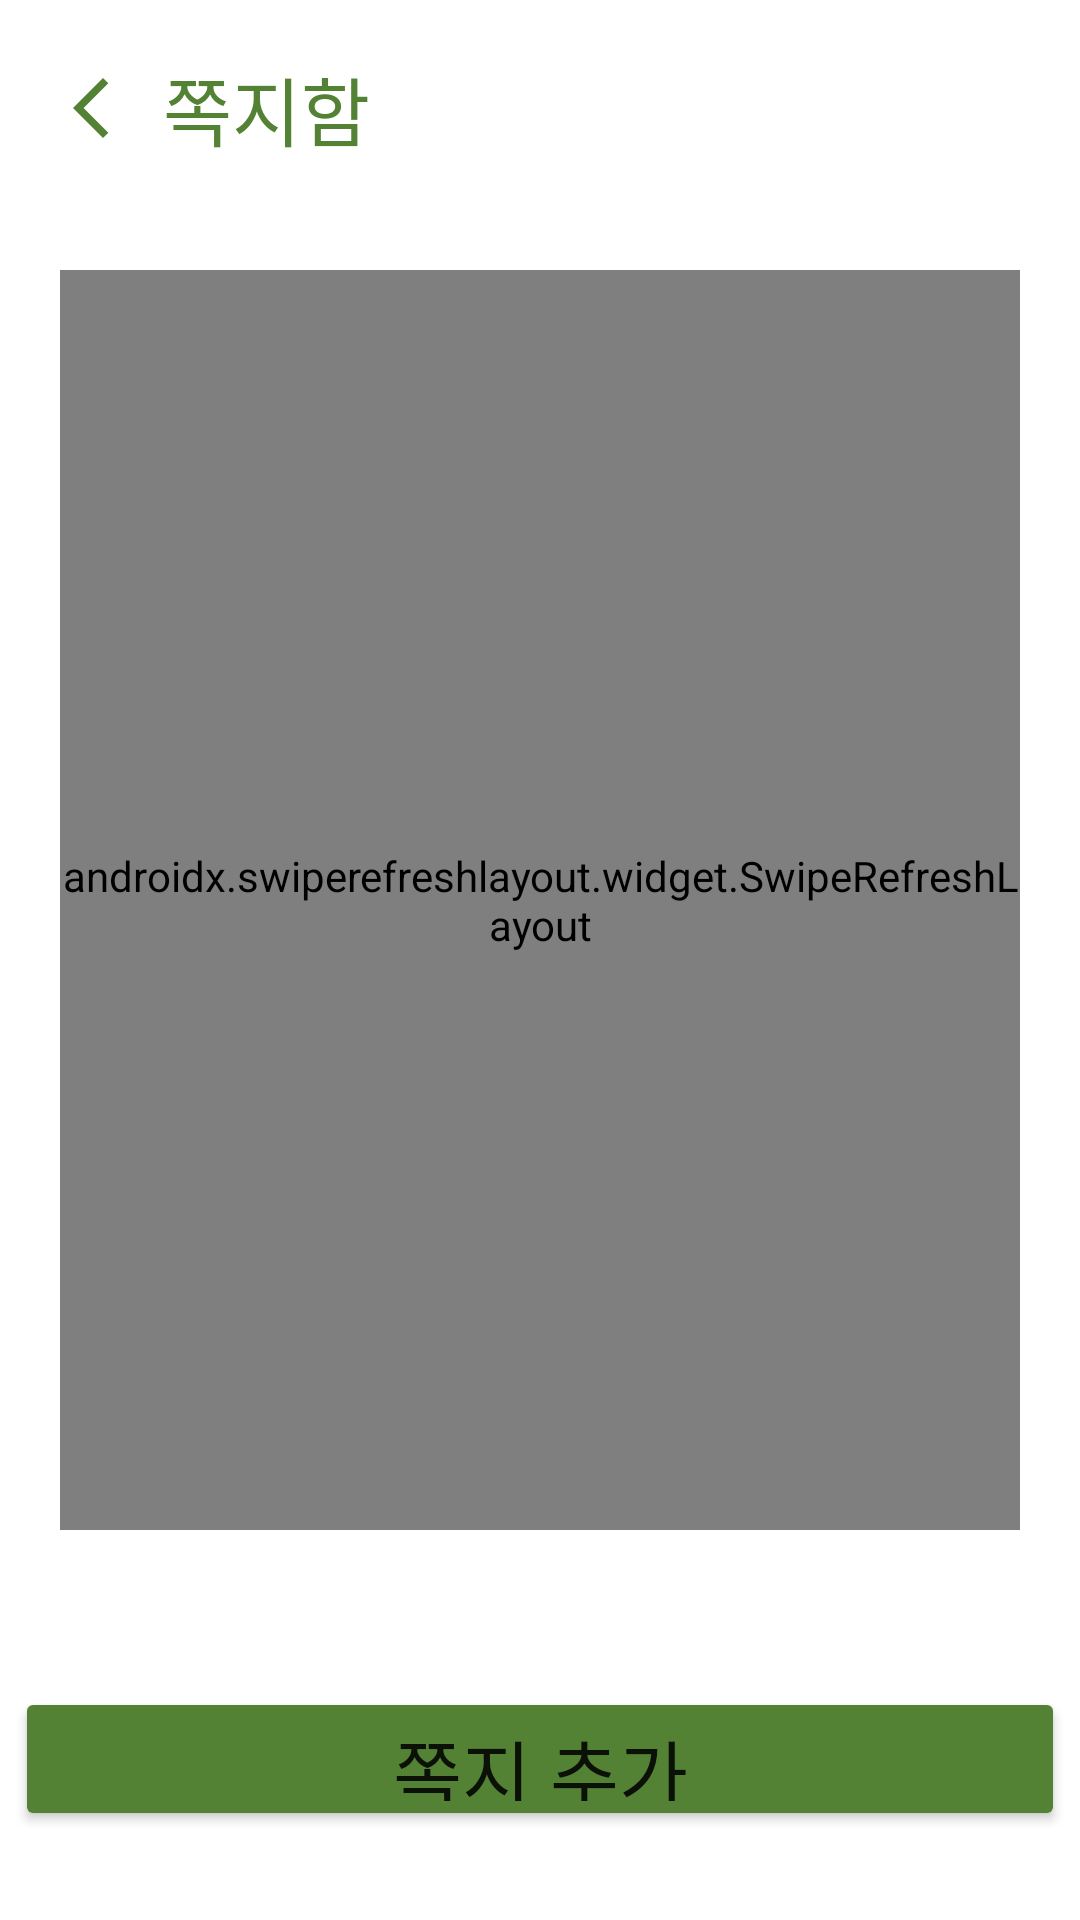

Named icons in this screenshot (1080 x 1920) and their centers, point (x, y):
back: point (90, 108)
